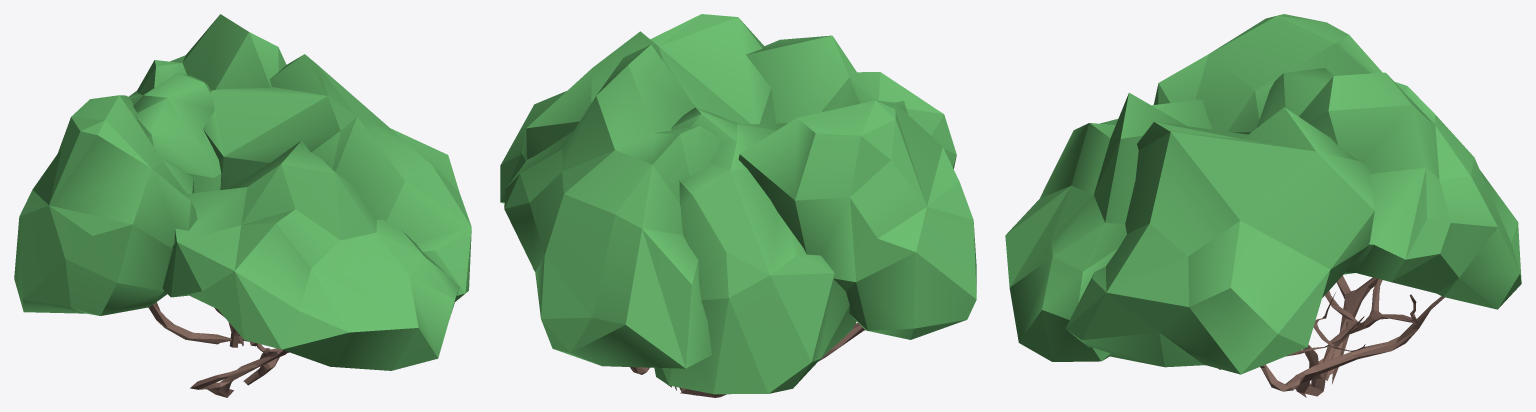
The model's file is bush_002.glb.
The picture shows the model from 3 angles, left to right: view 1: azimuth 30°, elevation 25°; view 2: azimuth 150°, elevation 25°; view 3: azimuth 270°, elevation 25°; orthographic projection. The views are drawn at different scales.
Visible parts, largest first — view 1: bush_002; view 2: bush_002; view 3: bush_002.
Part boxes in pixels (x1=…): bush_002: x1=14, y1=14, x2=471, y2=397; bush_002: x1=500, y1=14, x2=976, y2=397; bush_002: x1=1005, y1=14, x2=1521, y2=397.
Size of the model in its own units: 2.25 by 1.53 by 2.19.
1 material, 1 textured.
